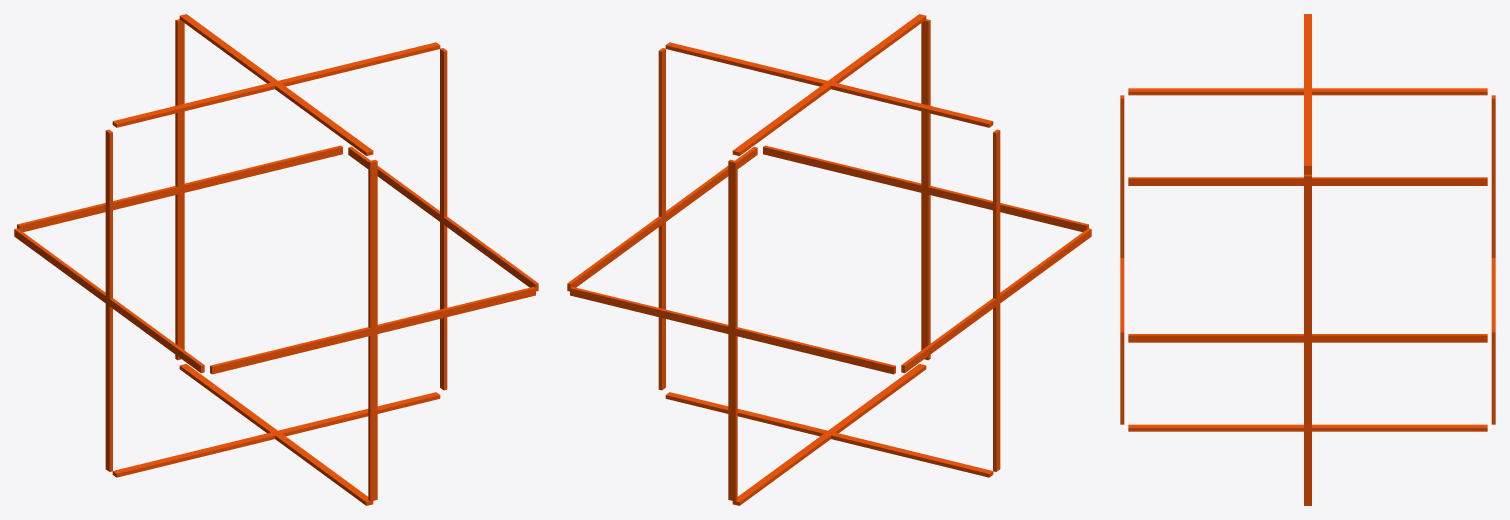
File: GlowCross.obj
3 views of the same model, side by side, from view 1: azimuth 30°, elevation 25°; view 2: azimuth 150°, elevation 25°; view 3: azimuth 270°, elevation 25° (orthographic). The views are drawn at different scales.
Parts seen in each view (by area): view 1: GlowCross; view 2: GlowCross; view 3: GlowCross.
Part boxes in pixels (left/top/right/bottom): GlowCross: left=14, top=14, right=538, bottom=505; GlowCross: left=567, top=14, right=1091, bottom=505; GlowCross: left=1120, top=14, right=1495, bottom=505.
Bounding box in the file's own units: 96 × 96 × 96.
